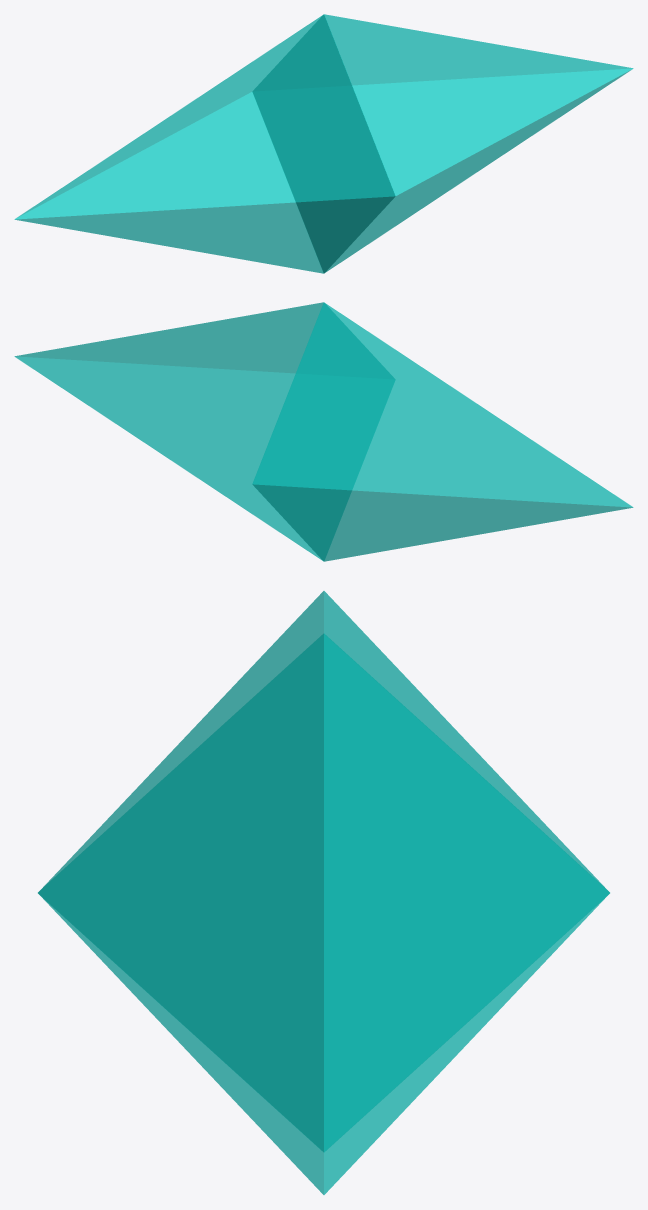
The model's file is goinosuke.fbx.
3 renders of one model, top to bottom at view 1: azimuth 30°, elevation 25°; view 2: azimuth 150°, elevation 25°; view 3: azimuth 270°, elevation 25°, orthographic. The views are drawn at different scales.
Parts seen in each view (by area): view 1: pPyramid3; view 2: pPyramid3; view 3: pPyramid3.
Boxes of the visible parts, <box> form: pPyramid3: <box>14,14,633,273</box>; pPyramid3: <box>14,302,633,561</box>; pPyramid3: <box>38,591,609,1194</box>.
Size of the model in its own units: 7.07 by 2.83 by 2.83.
